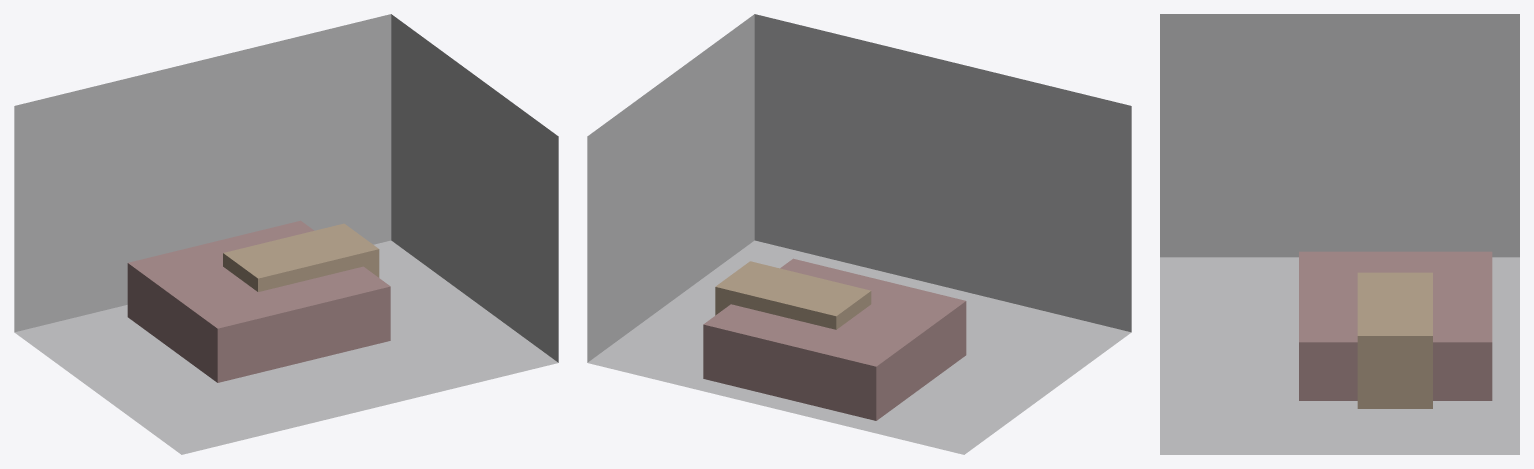
Rendered from optimised_layout.glb.
The picture shows the model from 3 angles, left to right: view 1: azimuth 30°, elevation 25°; view 2: azimuth 150°, elevation 25°; view 3: azimuth 270°, elevation 25°; orthographic projection. The views are drawn at different scales.
Visible parts, largest first — view 1: room, bed, desk; view 2: room, bed, desk; view 3: room, bed, desk.
Part boxes in pixels (<box>): room: <box>14,14,558,454</box>; bed: <box>127,220,390,382</box>; desk: <box>223,223,379,291</box>; room: <box>587,14,1131,454</box>; bed: <box>703,258,966,420</box>; desk: <box>715,261,871,329</box>; room: <box>1160,14,1519,454</box>; bed: <box>1299,251,1492,400</box>; desk: <box>1357,272,1432,408</box>.
Size of the model in its own units: 4.36 by 2.5 by 3.35.
